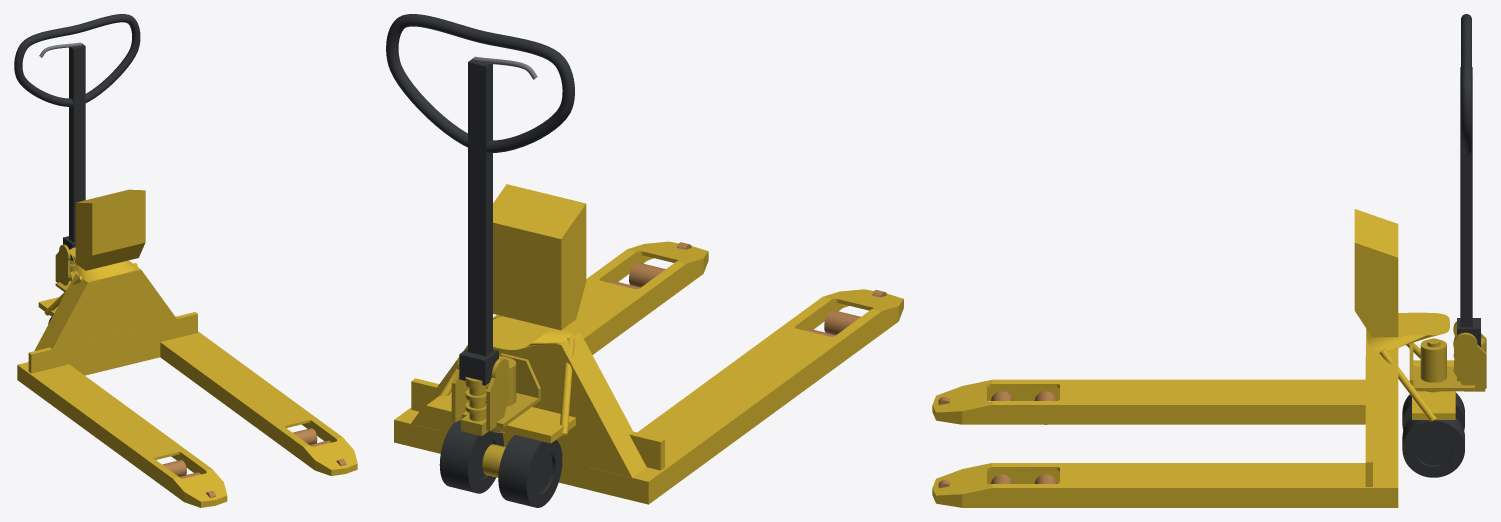
The model's file is pallet-jack.glb.
The picture shows the model from 3 angles, left to right: view 1: azimuth 30°, elevation 25°; view 2: azimuth 150°, elevation 25°; view 3: azimuth 270°, elevation 25°; orthographic projection. The views are drawn at different scales.
Visible parts, largest first — view 1: pallet_jack; view 2: pallet_jack; view 3: pallet_jack.
Part boxes in pixels (<box>): pallet_jack: <box>14,14,357,507</box>; pallet_jack: <box>386,14,903,507</box>; pallet_jack: <box>932,14,1486,507</box>.
Bounding box in the file's own units: 0.704 × 1.27 × 1.52.
